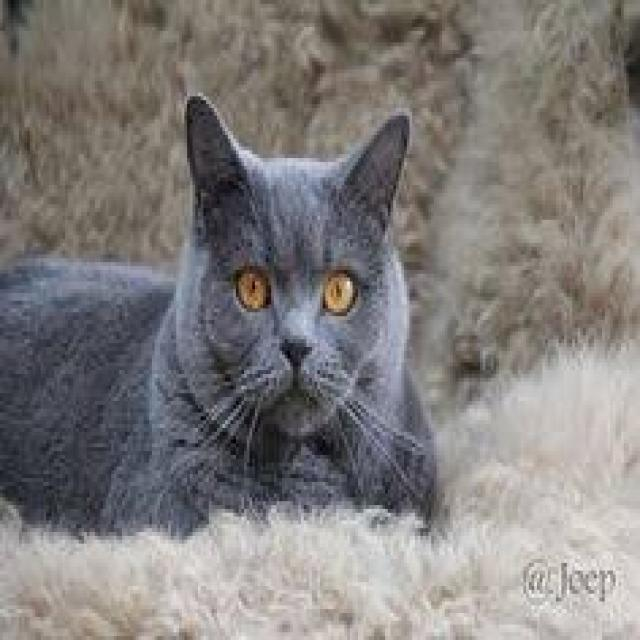Cat: (1, 90, 443, 542)
